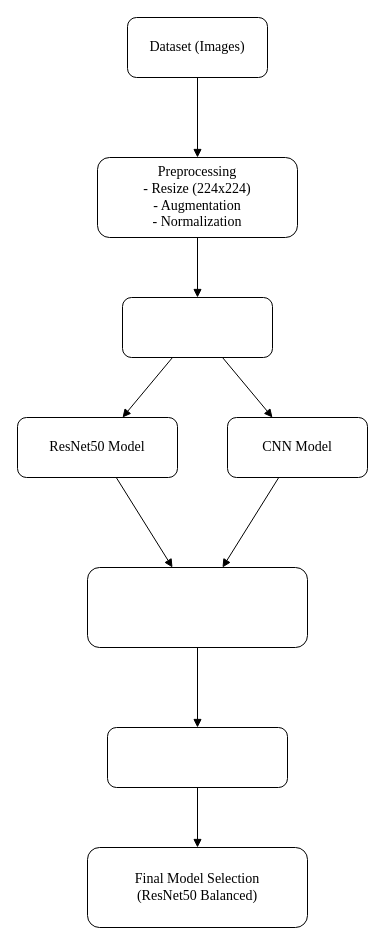
The diagram is 385 pixels wide and 945 high, and some of its shapes have lost their labels. Each missing label, with the centre of its shape:
Evaluation Accuracy, Precision, Recall, F1: (197,607)
Model Comparison: (197,757)
Train/Test Split: (197,327)
